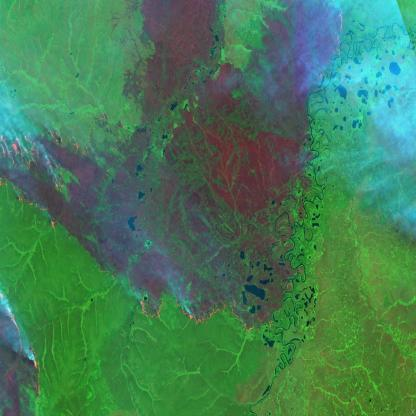fire: (0, 120, 73, 242), (136, 280, 280, 333), (0, 296, 44, 416)
